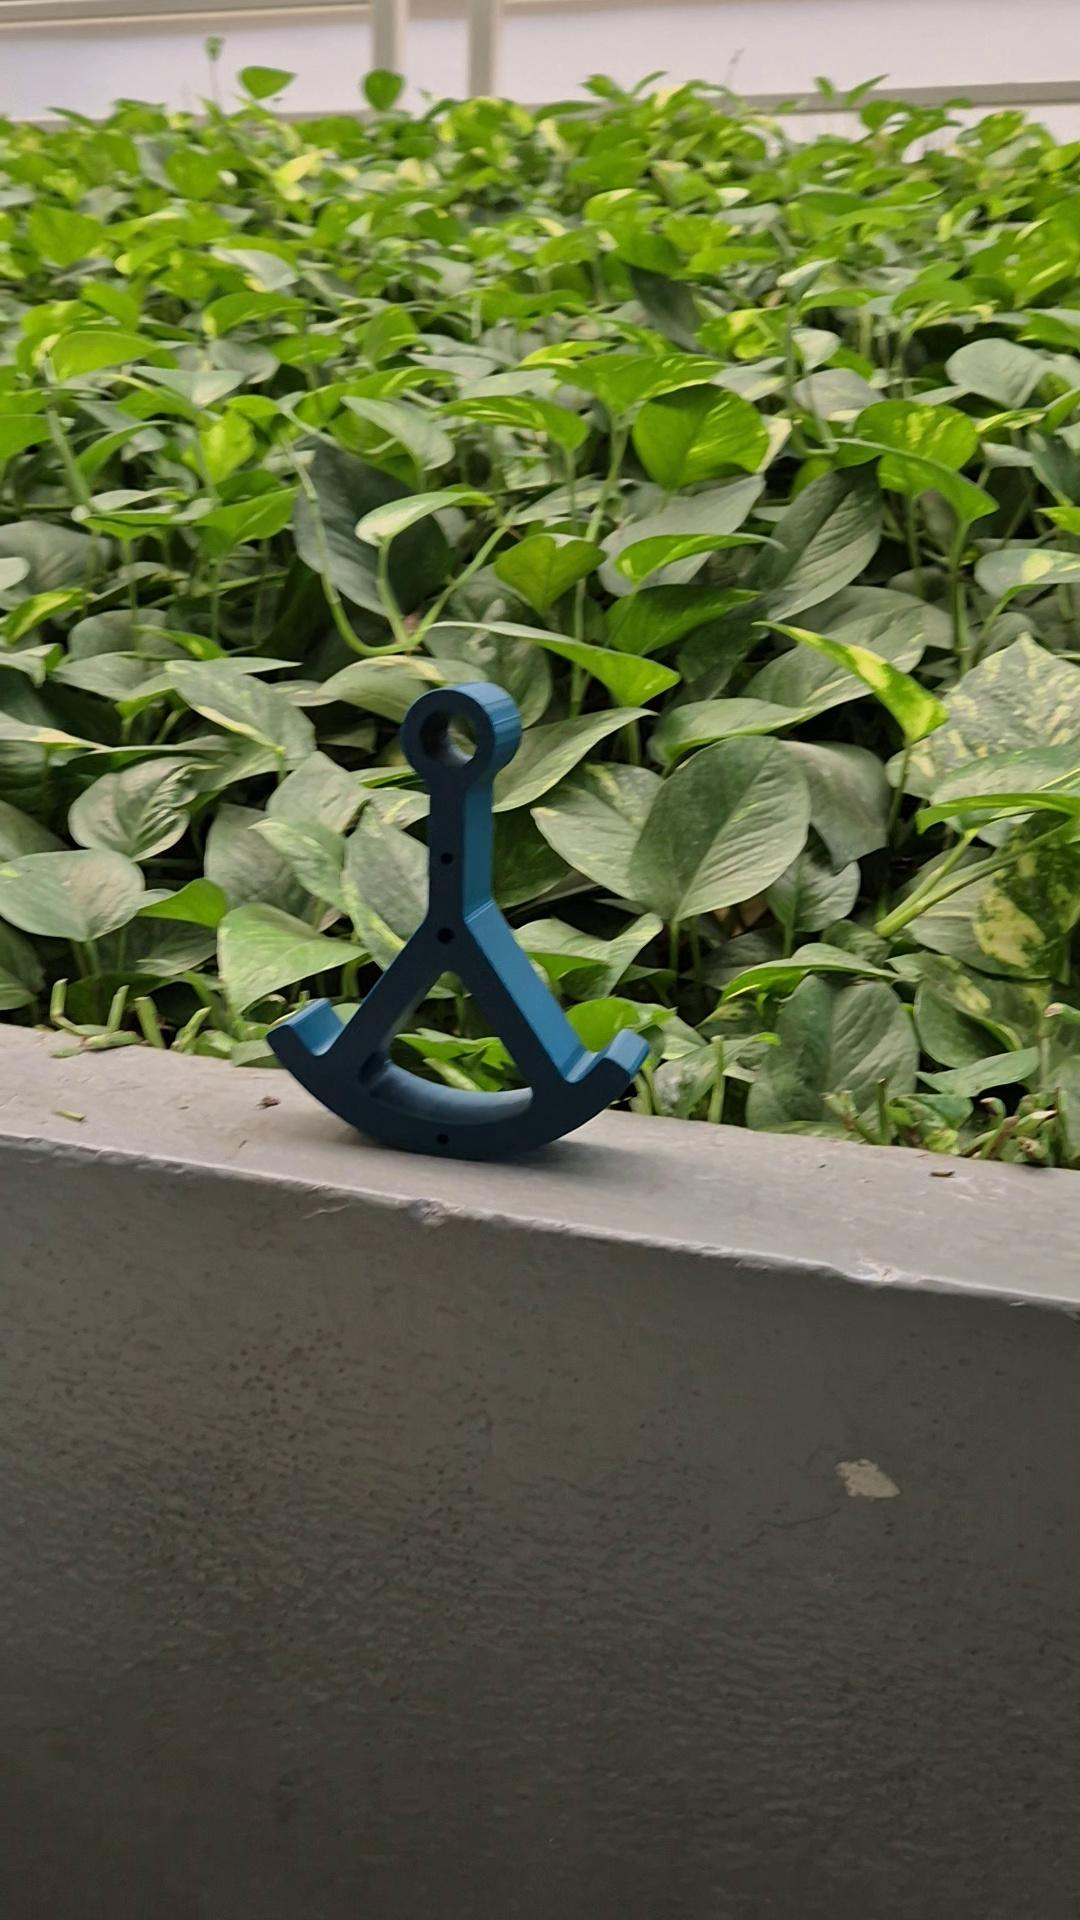Paddles: (261, 676, 655, 1164)
